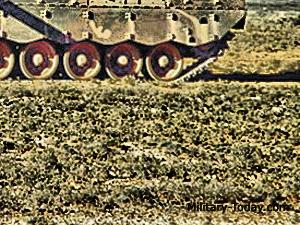tanks: (1, 1, 247, 81)
